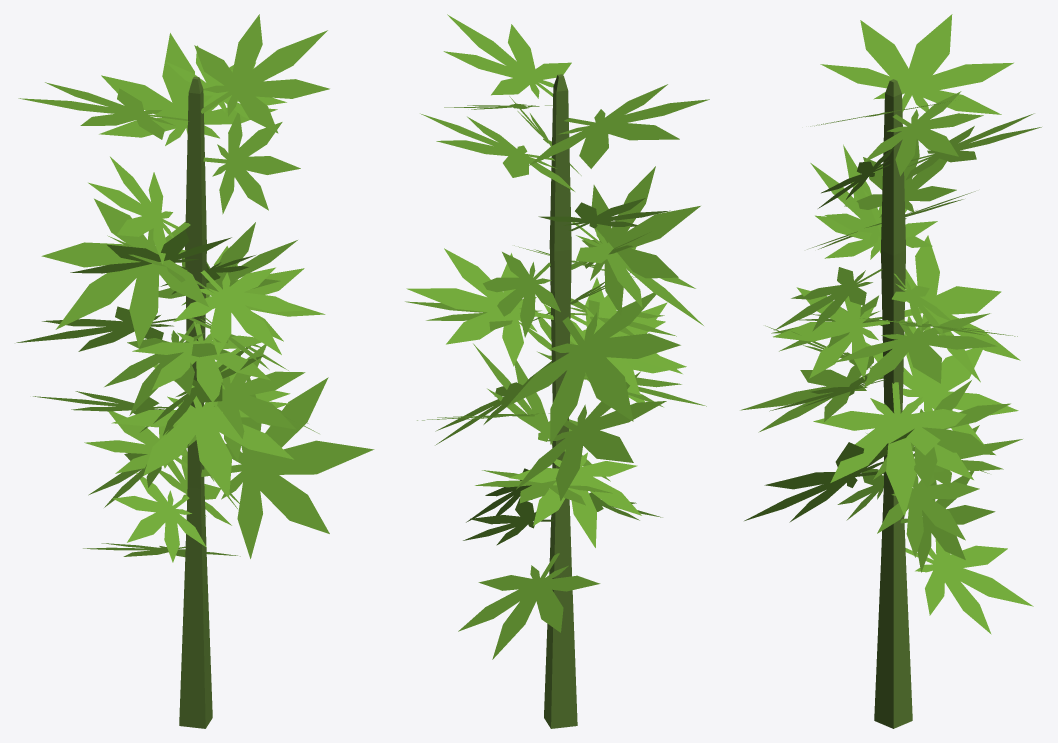
The model's file is Suspicious Plant.fbx.
The picture shows the model from 3 angles, left to right: view 1: azimuth 30°, elevation 25°; view 2: azimuth 150°, elevation 25°; view 3: azimuth 270°, elevation 25°; orthographic projection.
Parts seen in each view (by area): view 1: Plant, Plant|Leaf|Dupli|23, Plant|Leaf|Dupli|2, Plant|Leaf|Dupli|, Plant|Leaf|Dupli|17, Plant|Leaf|Dupli|4, Plant|Leaf|Dupli|24, Plant|Leaf|Dupli|22, Plant|Leaf|Dupli|1, Plant|Leaf|Dupli|26, Plant|Leaf|Dupli|6, Plant|Leaf|Dupli|5 (+13 smaller); view 2: Plant, Plant|Leaf|Dupli|10, Plant|Leaf|Dupli|21, Plant|Leaf|Dupli|29, Plant|Leaf|Dupli|9, Plant|Leaf|Dupli|16, Plant|Leaf|Dupli|5, Plant|Leaf|Dupli|, Plant|Leaf|Dupli|7, Plant|Leaf|Dupli|15, Plant|Leaf|Dupli|4, Plant|Leaf|Dupli|2 (+11 smaller); view 3: Plant, Plant|Leaf|Dupli|14, Plant|Leaf|Dupli|5, Plant|Leaf|Dupli|29, Plant|Leaf|Dupli|13, Plant|Leaf|Dupli|10, Plant|Leaf|Dupli|25, Plant|Leaf|Dupli|9, Plant|Leaf|Dupli|11, Plant|Leaf|Dupli|3, Plant|Leaf|Dupli|12, Plant|Leaf|Dupli|23 (+13 smaller).
Boxes of the visible parts, bbox=[...] form: Plant: bbox=[179, 76, 212, 728]; Plant|Leaf|Dupli|23: bbox=[201, 377, 374, 558]; Plant|Leaf|Dupli|2: bbox=[41, 198, 208, 347]; Plant|Leaf|Dupli|: bbox=[194, 14, 329, 133]; Plant|Leaf|Dupli|17: bbox=[111, 385, 293, 498]; Plant|Leaf|Dupli|4: bbox=[99, 33, 277, 145]; Plant|Leaf|Dupli|24: bbox=[173, 267, 304, 355]; Plant|Leaf|Dupli|22: bbox=[132, 322, 270, 407]; Plant|Leaf|Dupli|1: bbox=[203, 112, 300, 214]; Plant|Leaf|Dupli|26: bbox=[188, 344, 305, 460]; Plant|Leaf|Dupli|6: bbox=[88, 156, 178, 264]; Plant|Leaf|Dupli|5: bbox=[18, 82, 188, 139]; Plant: bbox=[544, 74, 577, 728]; Plant|Leaf|Dupli|10: bbox=[507, 292, 680, 444]; Plant|Leaf|Dupli|21: bbox=[571, 166, 700, 315]; Plant|Leaf|Dupli|29: bbox=[458, 553, 600, 659]; Plant|Leaf|Dupli|9: bbox=[516, 371, 666, 500]; Plant|Leaf|Dupli|16: bbox=[406, 248, 553, 366]; Plant|Leaf|Dupli|5: bbox=[528, 84, 709, 168]; Plant|Leaf|Dupli|: bbox=[443, 14, 571, 98]; Plant|Leaf|Dupli|7: bbox=[509, 449, 641, 547]; Plant|Leaf|Dupli|15: bbox=[483, 252, 560, 337]; Plant|Leaf|Dupli|4: bbox=[420, 113, 574, 191]; Plant|Leaf|Dupli|2: bbox=[572, 222, 703, 325]; Plant: bbox=[874, 79, 912, 728]; Plant|Leaf|Dupli|14: bbox=[813, 382, 973, 516]; Plant|Leaf|Dupli|5: bbox=[820, 14, 1013, 114]; Plant|Leaf|Dupli|29: bbox=[905, 539, 1033, 634]; Plant|Leaf|Dupli|13: bbox=[833, 313, 996, 387]; Plant|Leaf|Dupli|10: bbox=[879, 235, 1020, 382]; Plant|Leaf|Dupli|25: bbox=[773, 287, 889, 379]; Plant|Leaf|Dupli|9: bbox=[865, 316, 1018, 445]; Plant|Leaf|Dupli|11: bbox=[877, 465, 979, 557]; Plant|Leaf|Dupli|3: bbox=[864, 91, 983, 176]; Plant|Leaf|Dupli|12: bbox=[873, 380, 1010, 487]; Plant|Leaf|Dupli|23: bbox=[744, 429, 913, 522].
Size of the model in its own units: 140 by 318 by 132.
